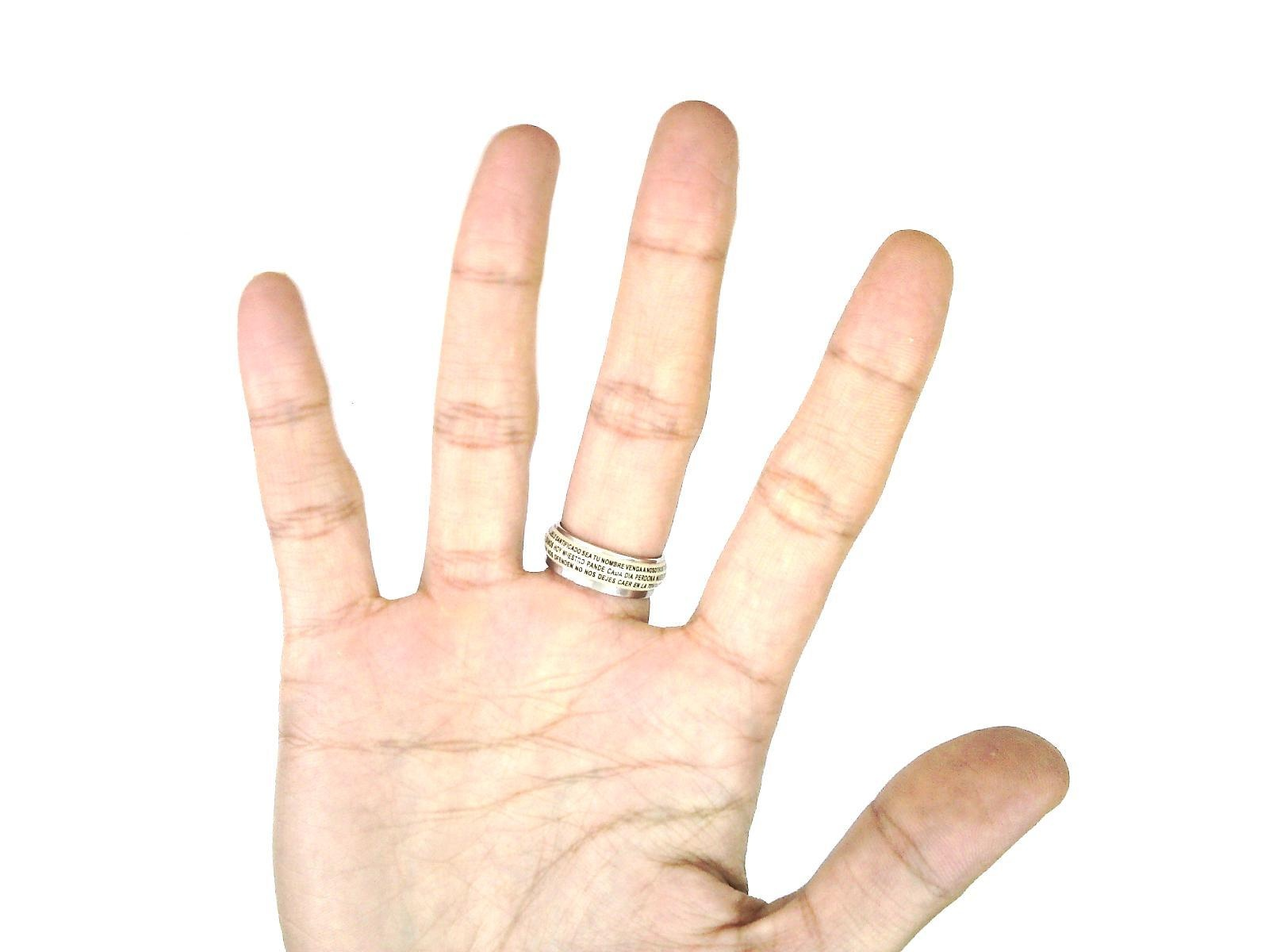open_palm: (232, 99, 1072, 952)
